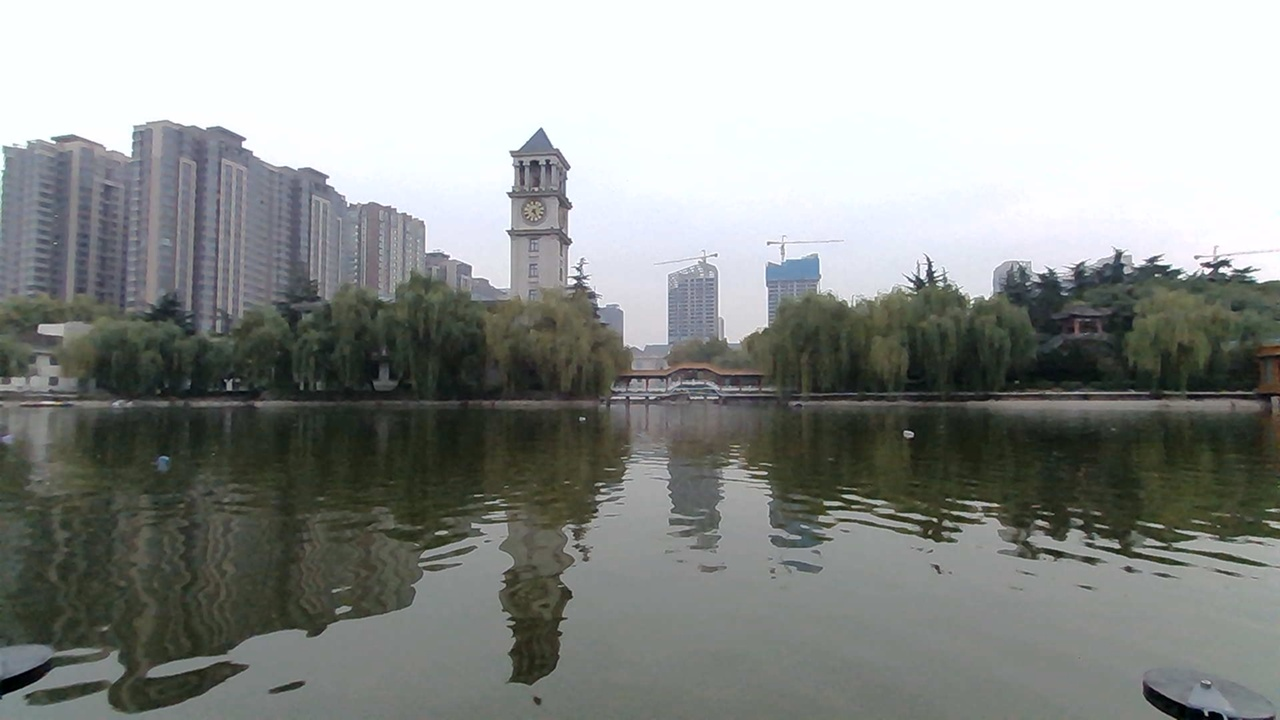bottle: (146, 450, 183, 478), (890, 419, 922, 448)
